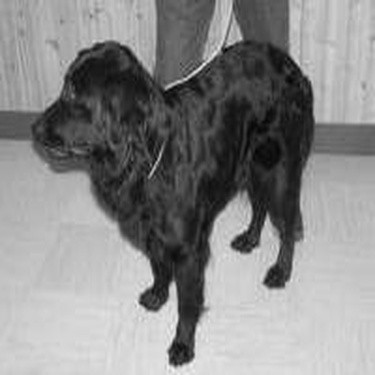dog: (12, 29, 321, 369)
